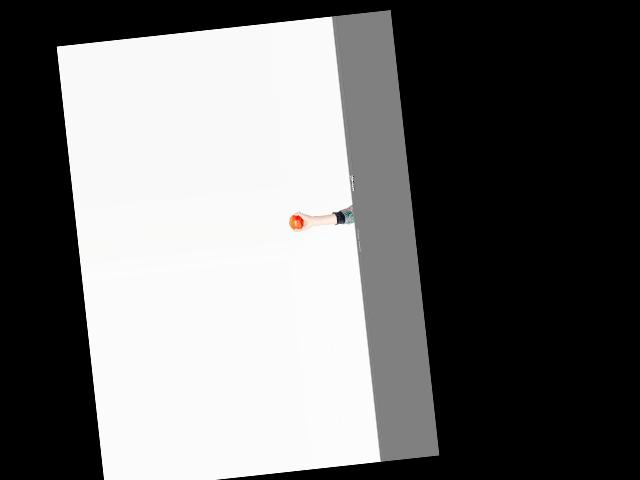tomato: (288, 214, 304, 230)
